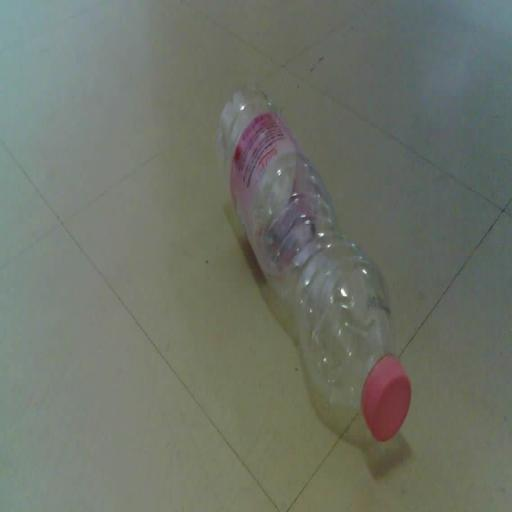bottle: (216, 87, 403, 443)
